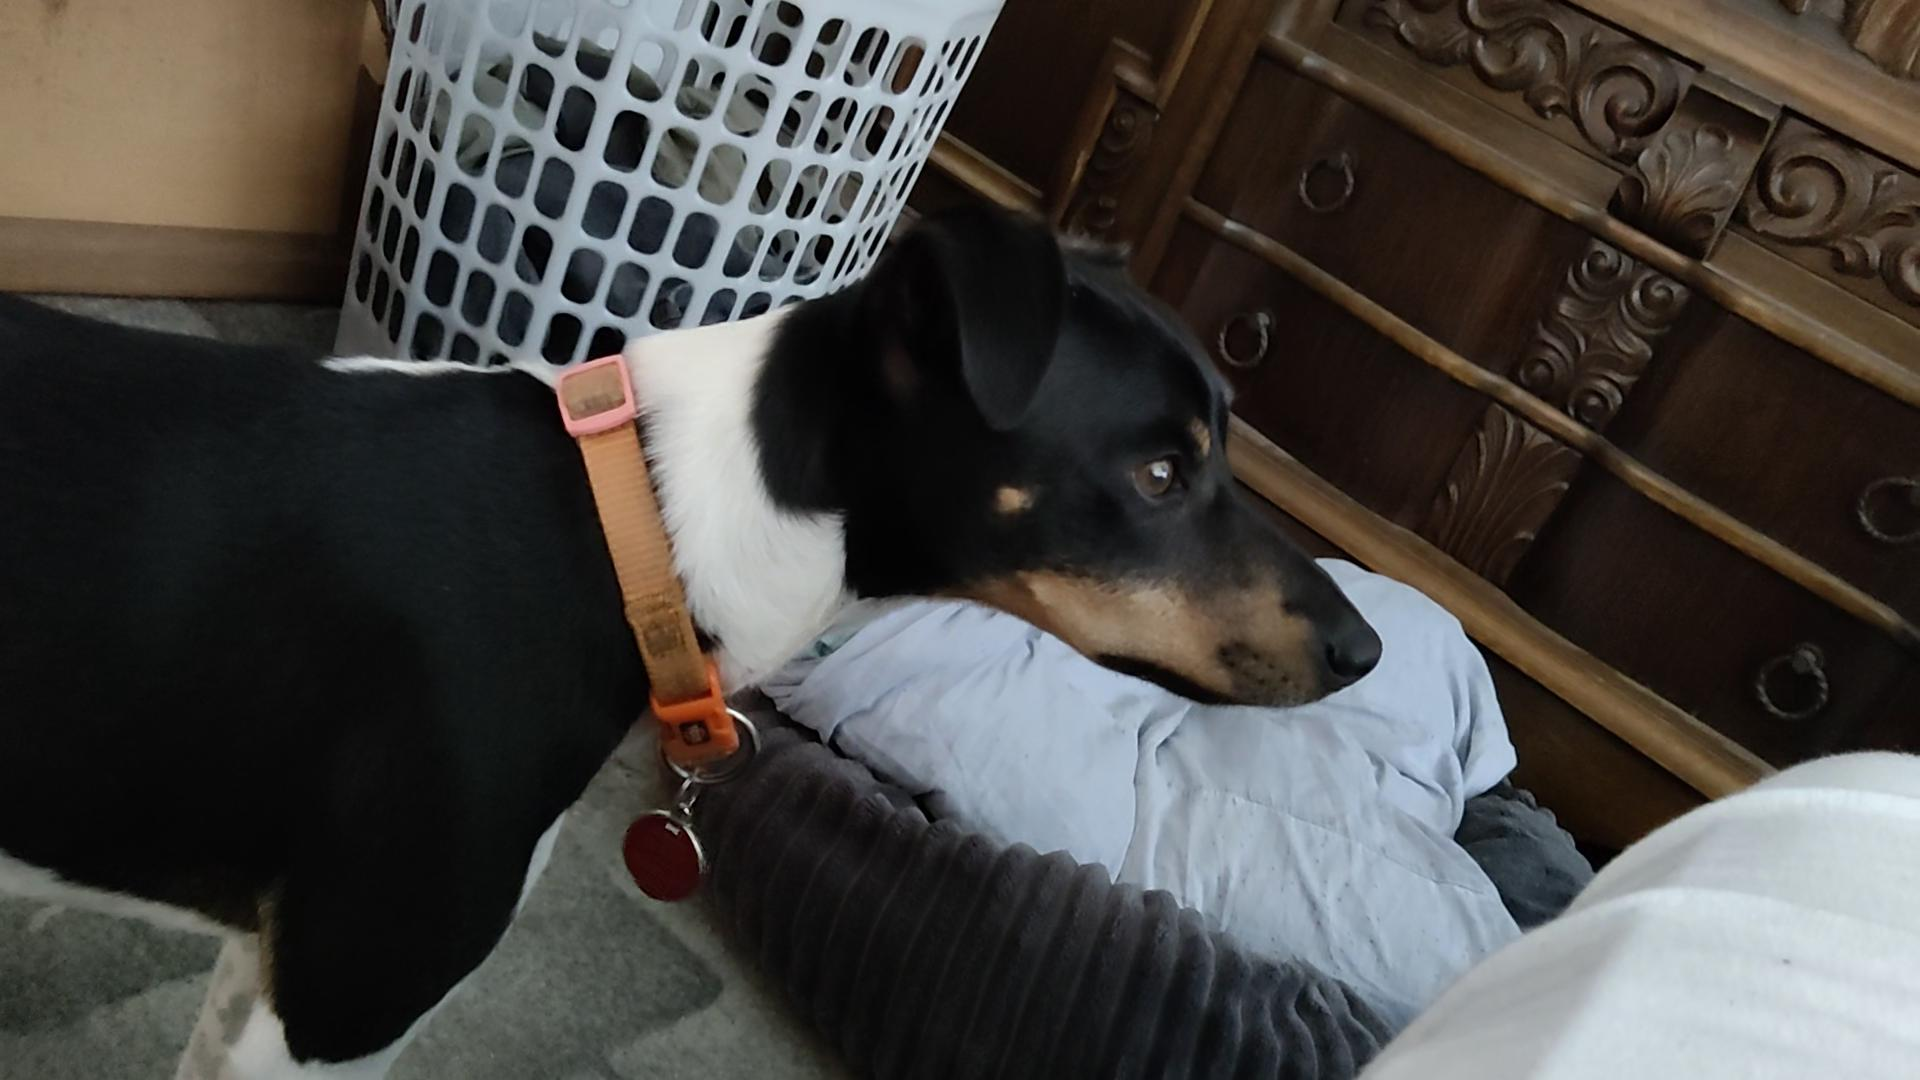Dog: (0, 181, 1400, 1079)
